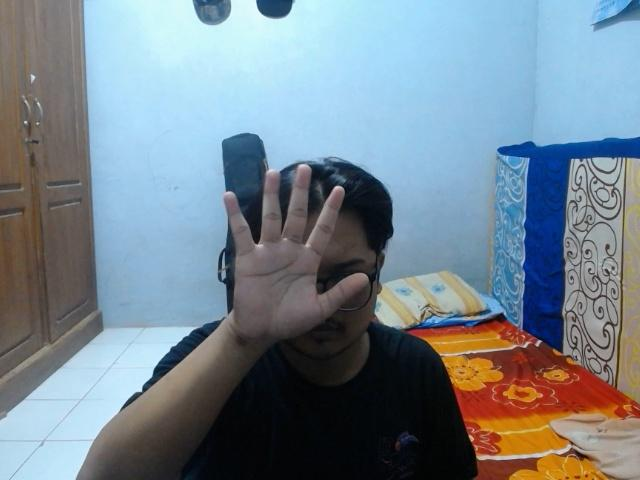Release: (219, 159, 373, 357)
